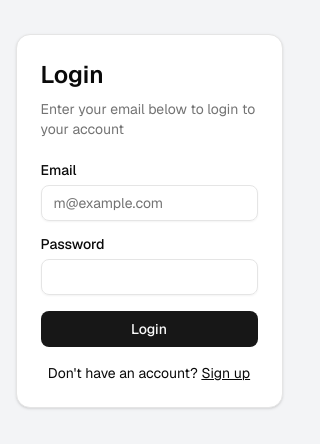
Login Page (Use Case 1) › should show "Login failed" error for empty email (TS-2.5)
The image size is (320, 444).
# Test Steps
Type "password123" into the password field labelled "Password" at (149, 277), box [40,259,258,295]
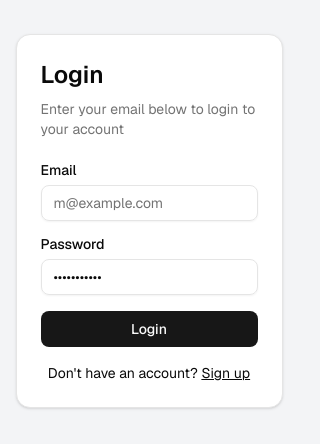
# Test Step: Submit the form directly
Submit the form "Email Password Login", box [40,163,258,347]
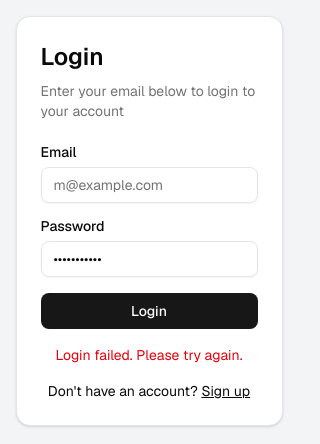
expect the text "Login failed. Please try again." is shown: met, box [40,345,258,365]
